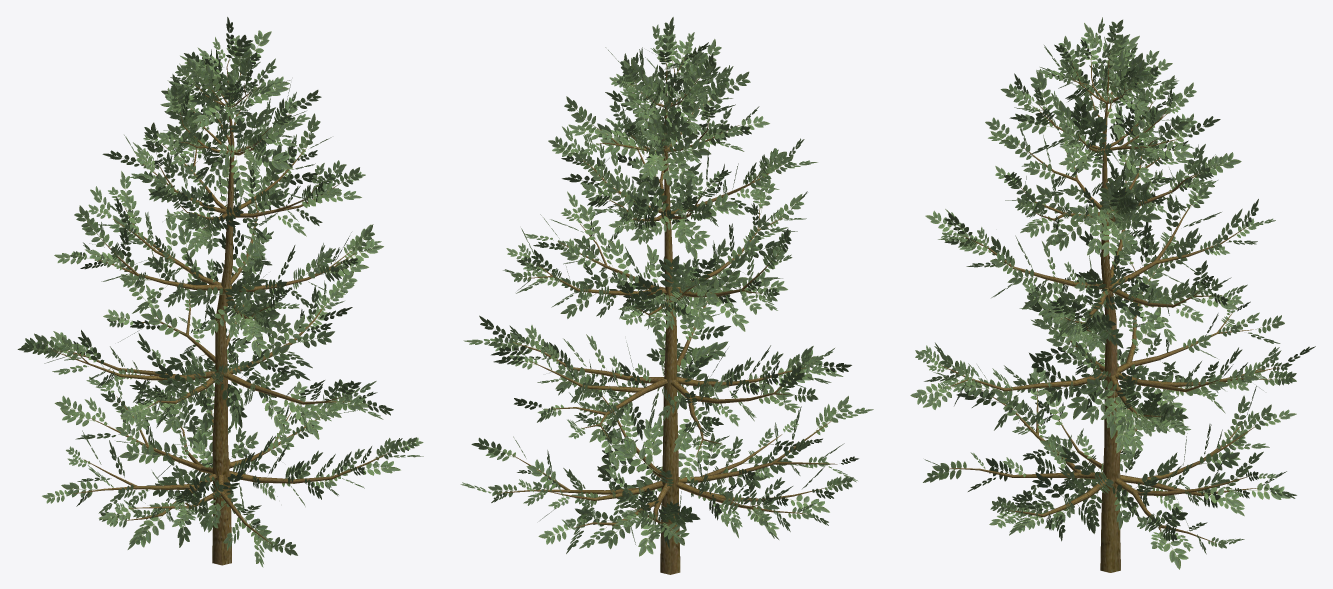
3 renders of one model, left to right at view 1: azimuth 30°, elevation 25°; view 2: azimuth 150°, elevation 25°; view 3: azimuth 270°, elevation 25°, orthographic. The views are drawn at different scales.
Visible parts, largest first — view 1: leaves_1, tree_root; view 2: leaves_1, tree_root; view 3: leaves_1, tree_root.
Boxes of the visible parts, left/top/right/bottom form: leaves_1: left=17, top=17, right=423, bottom=567; tree_root: left=52, top=58, right=391, bottom=565; leaves_1: left=460, top=17, right=873, bottom=556; tree_root: left=496, top=57, right=837, bottom=574; leaves_1: left=910, top=17, right=1315, bottom=569; tree_root: left=938, top=52, right=1278, bottom=572.
Size of the model in its own units: 4.54 by 6.71 by 4.48.
Materials: 2 (2 with a texture image).
